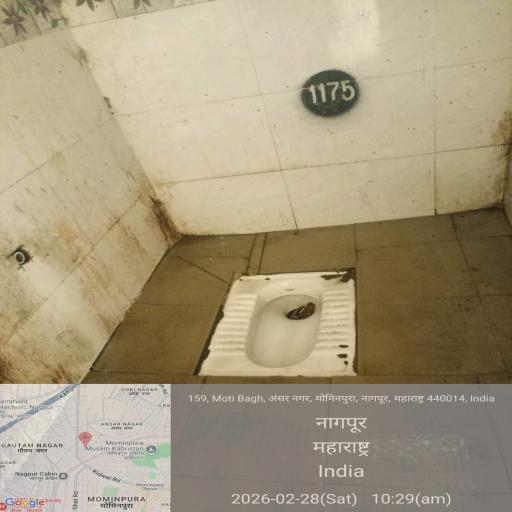partial_dirty_floor: (130, 207, 510, 382), (0, 161, 182, 386), (174, 70, 411, 202), (48, 32, 165, 160), (412, 85, 512, 220), (343, 0, 512, 75)
partial_dirty_indian: (204, 263, 366, 379)
